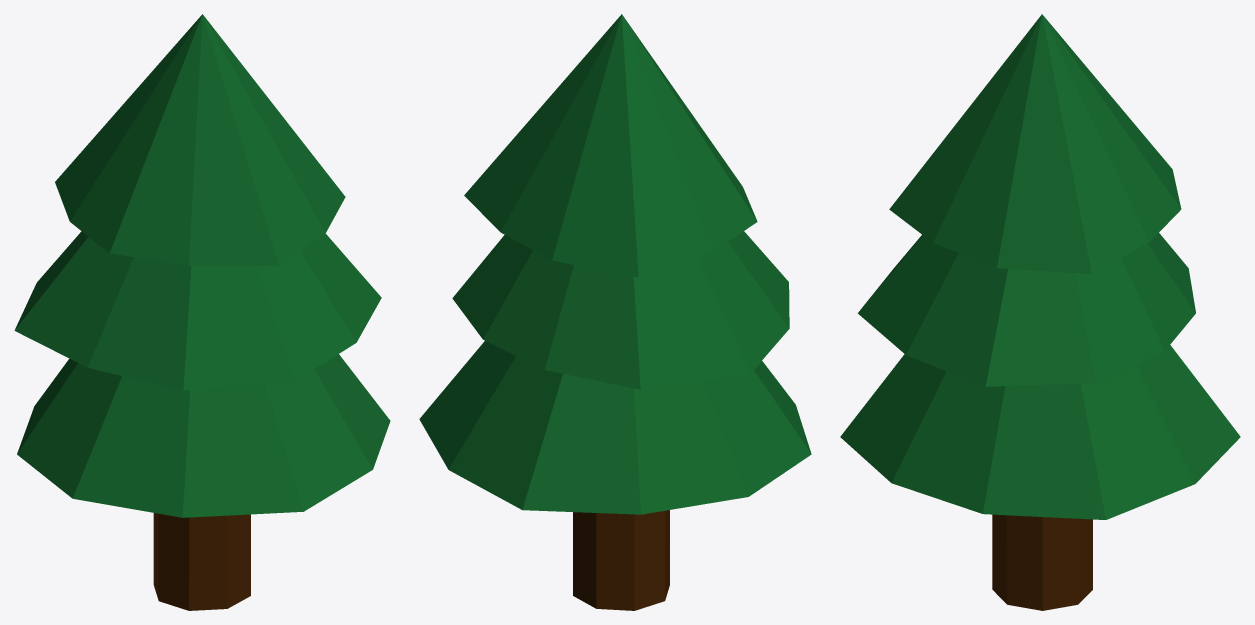
File: Pinetree.fbx
3 views of the same model, side by side, from view 1: azimuth 30°, elevation 25°; view 2: azimuth 150°, elevation 25°; view 3: azimuth 270°, elevation 25° (orthographic).
Visible parts, largest first — view 1: Pinetree; view 2: Pinetree; view 3: Pinetree.
Part boxes in pixels (x1,y1,x2,y2): Pinetree: [14, 14, 390, 610]; Pinetree: [419, 14, 811, 610]; Pinetree: [840, 14, 1240, 610].
Bounding box in the file's own units: 190 × 316 × 199.
